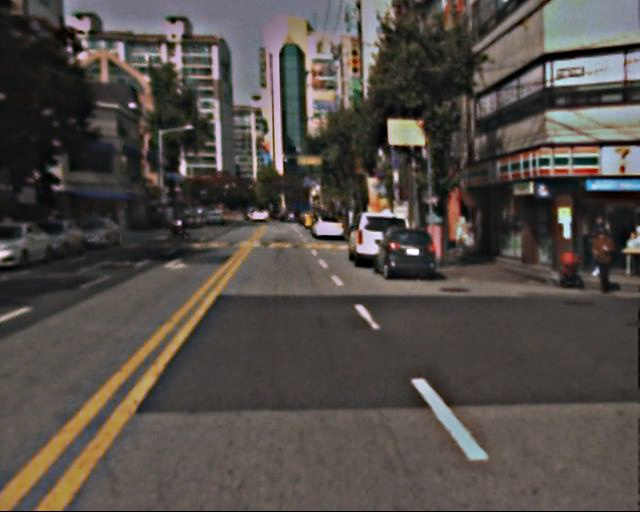person: (589, 221, 622, 296), (185, 211, 197, 243)
